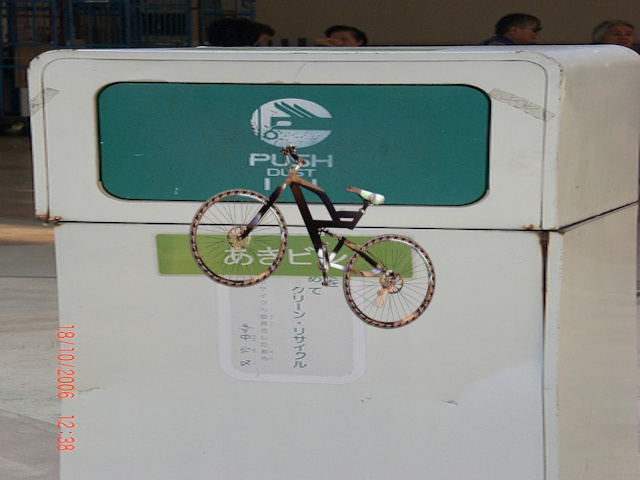bike: (177, 144, 448, 337)
